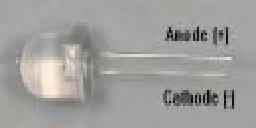LED: (15, 24, 130, 108)
